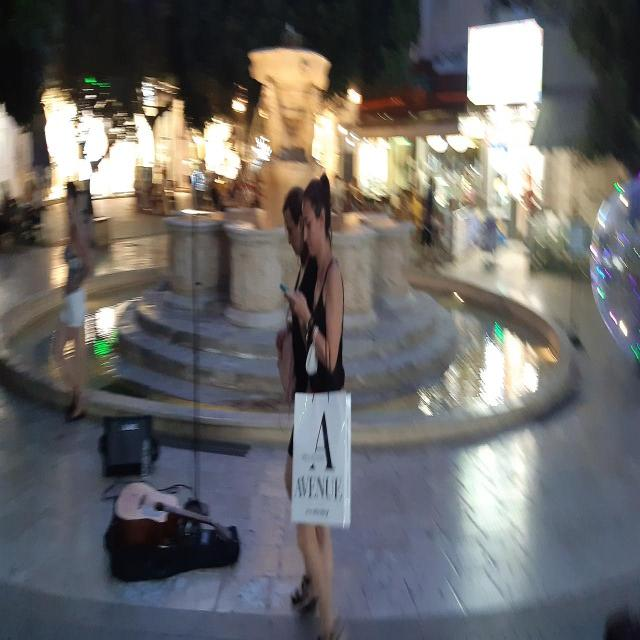Liontaria: (170, 51, 418, 313)
